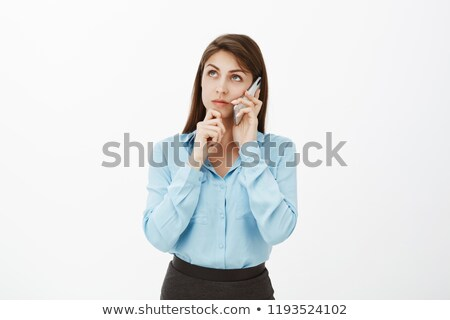phone: (236, 78, 265, 128)
talk: (199, 61, 264, 138)
